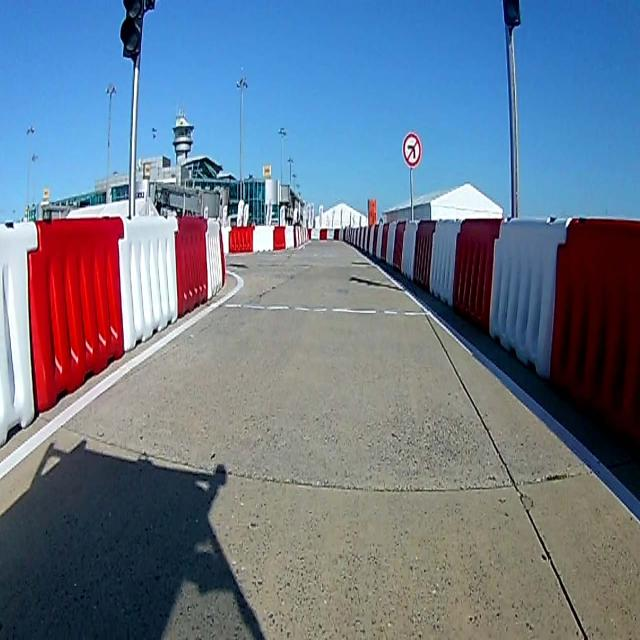soladonulmez: (401, 134, 422, 166)
